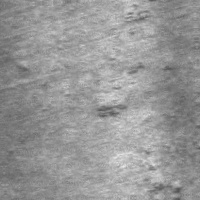rolled-in_scale: (94, 60, 148, 121), (132, 146, 182, 200), (127, 0, 172, 27)
